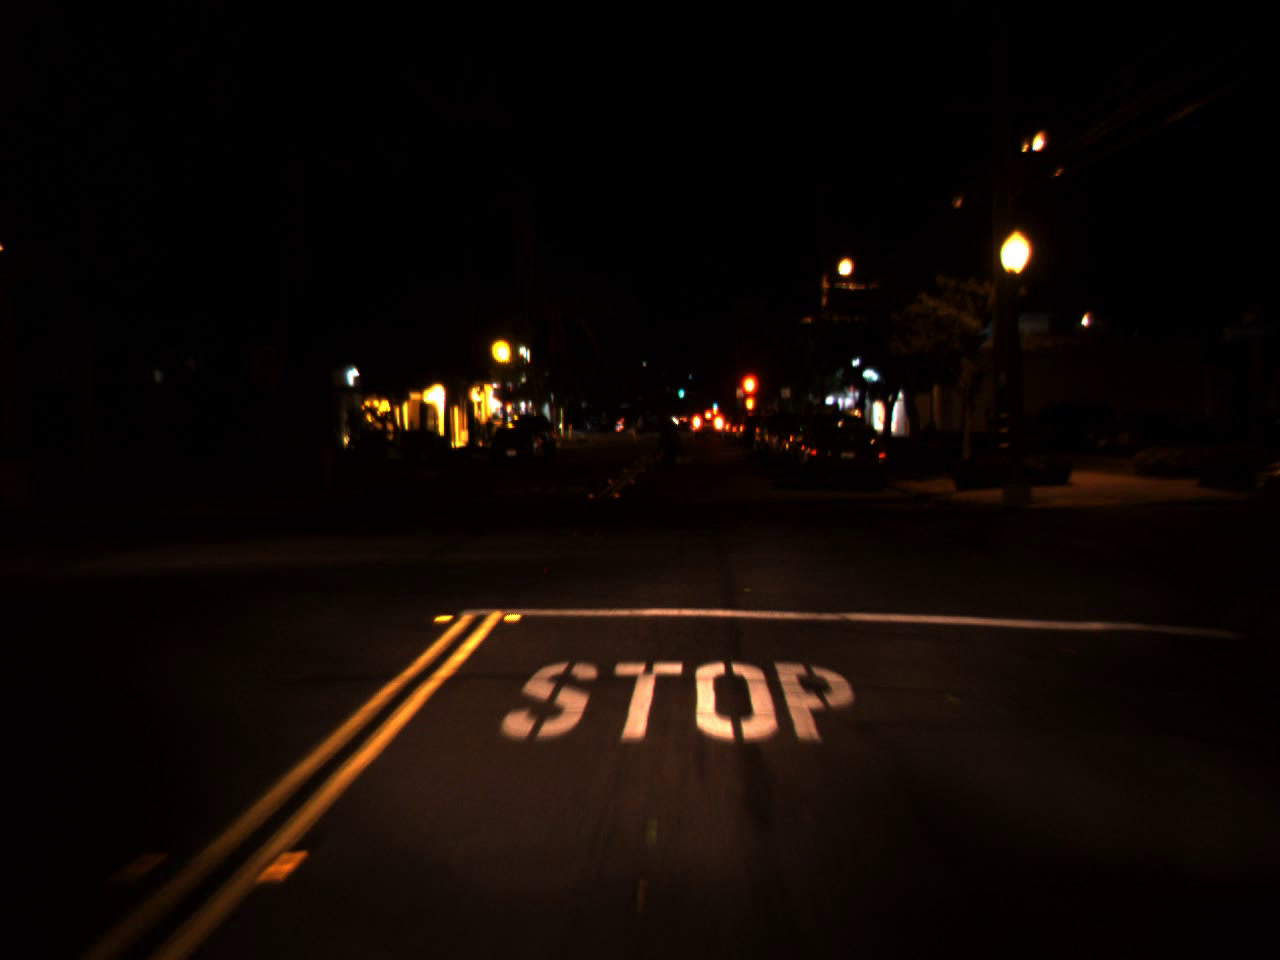go: (674, 378, 686, 399), (711, 397, 718, 409)
stop: (735, 371, 760, 419)
